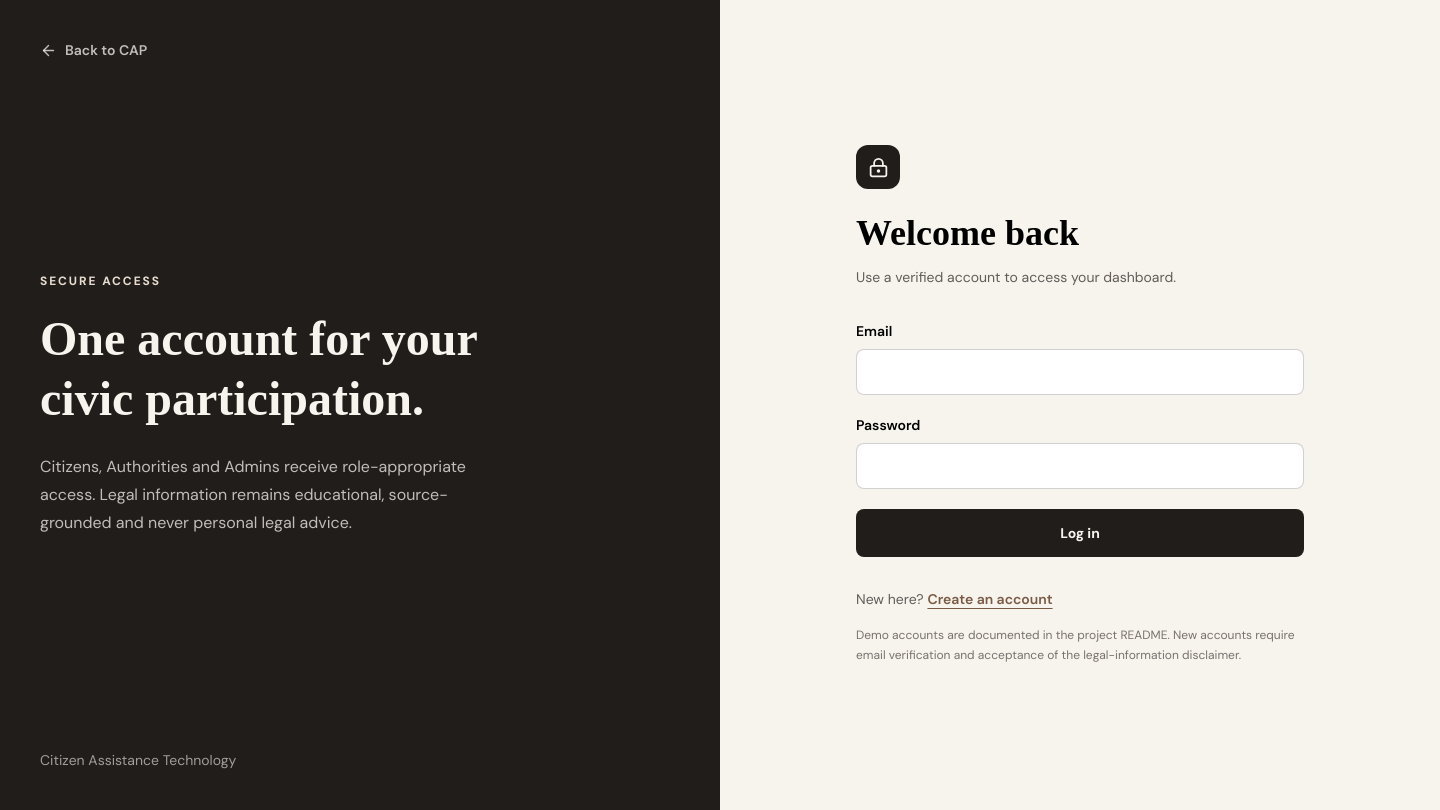
Test: LoginPage › offers a route out of the unverified-account deadlock
Type "asha@example.com" into the field labelled "Email".
click(1080, 372); type("asha@example.com")  # box [856, 349, 1304, 395]
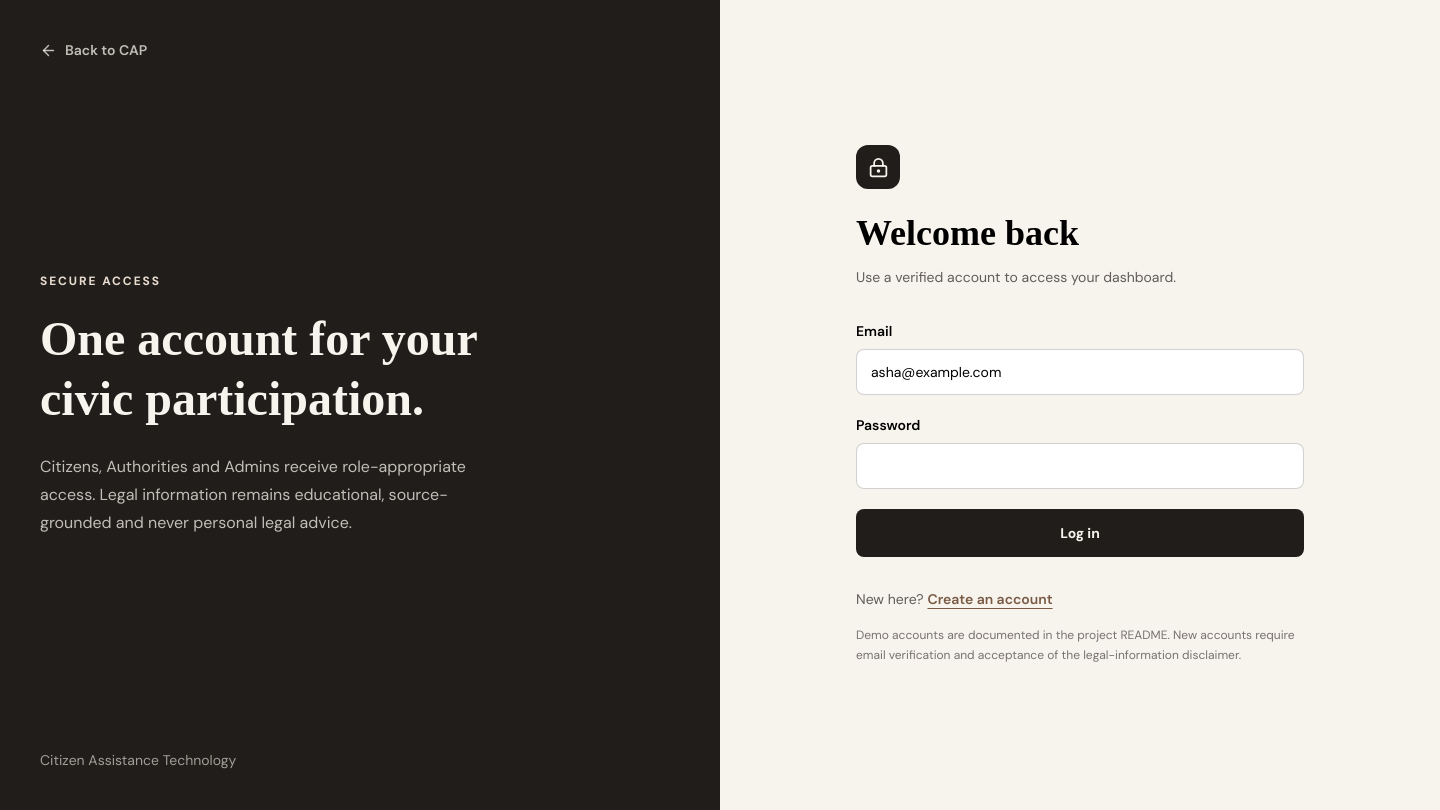
Type "CorrectHorse!2026" into the password field labelled "Password".
click(1080, 466); type("CorrectHorse!2026")  # box [856, 443, 1304, 489]
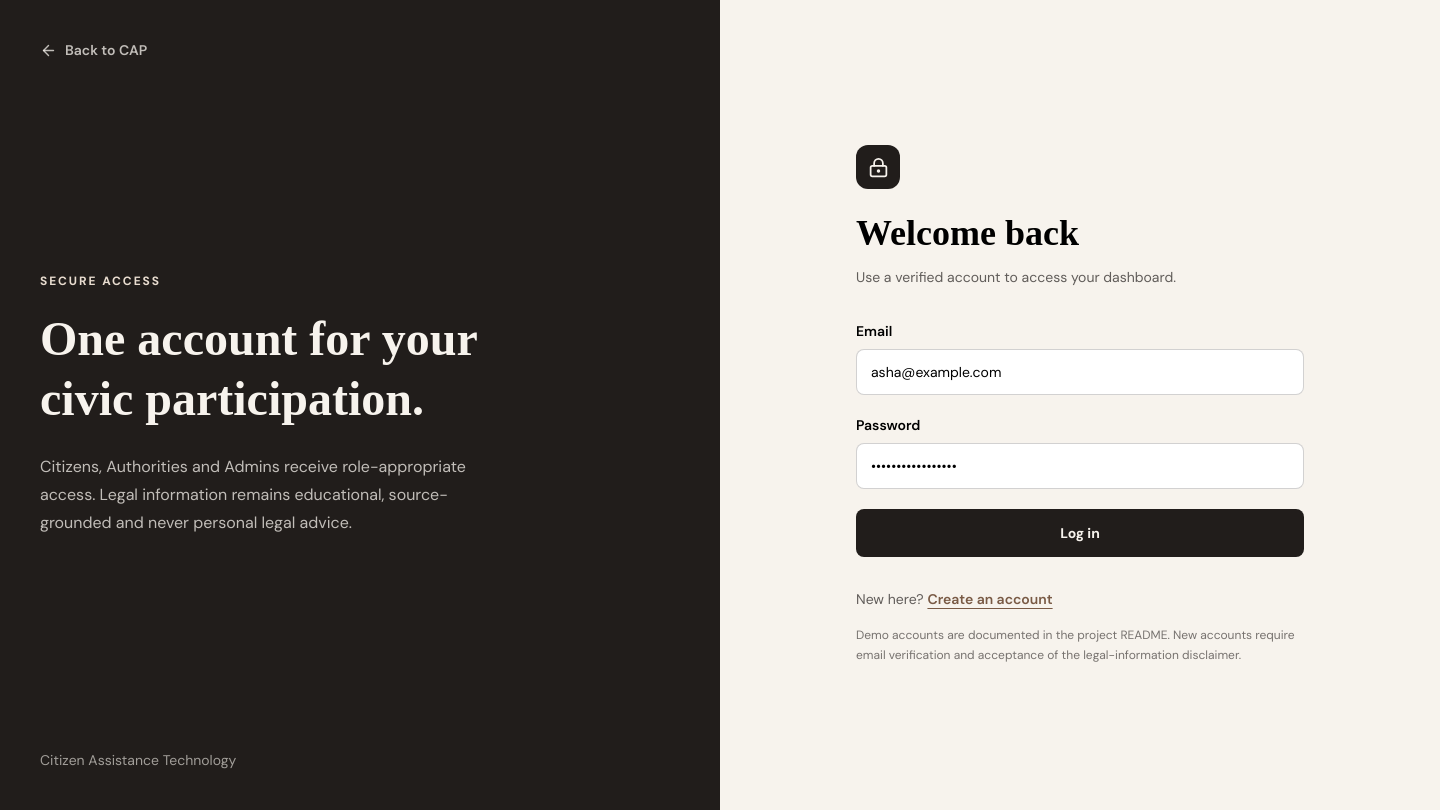
Click the button "Log in".
click(1080, 533)  # box [856, 509, 1304, 557]
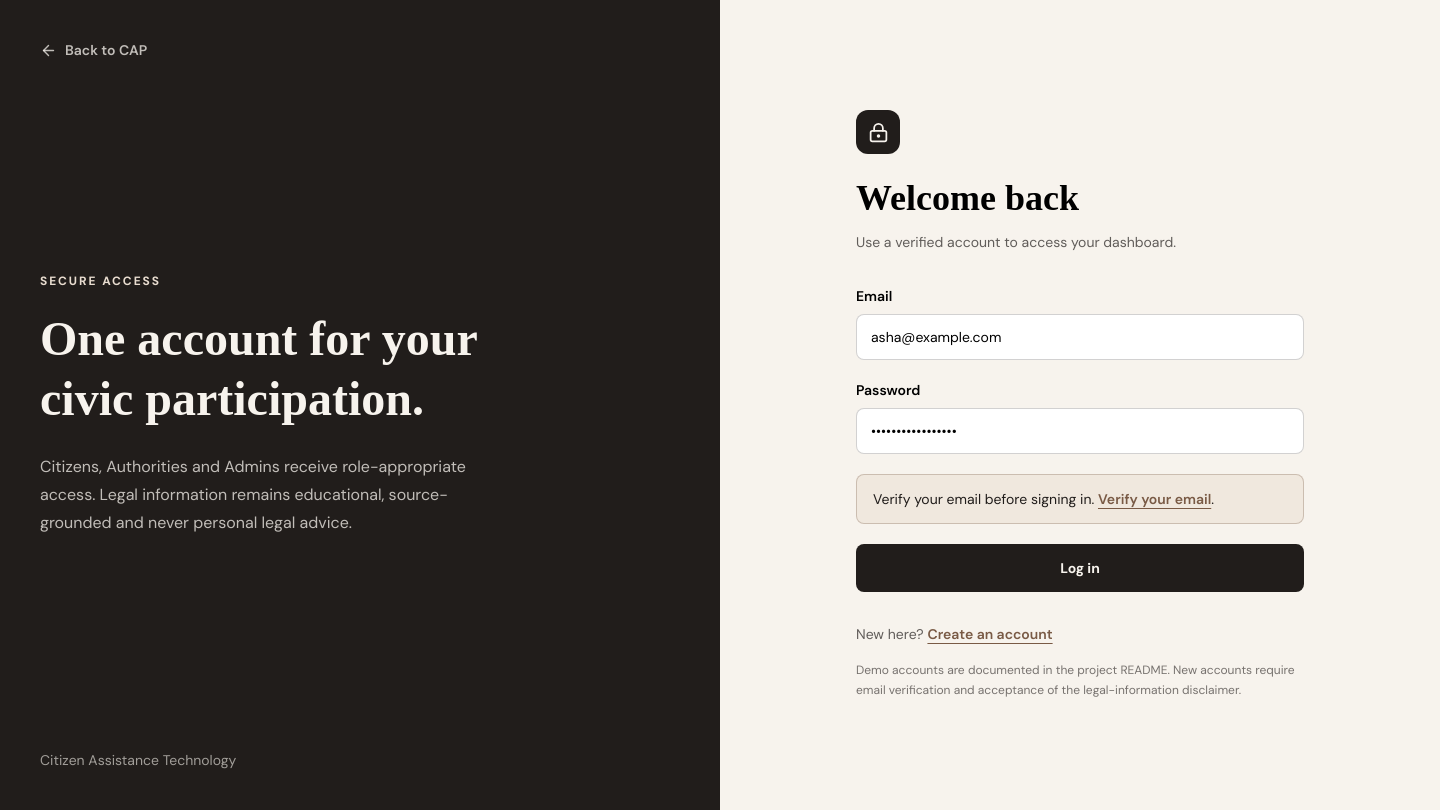
expect the message "Verify your email before signing in. Verify your email ." is shown: met, box [856, 474, 1304, 524]
expect the link "Verify your email" is shown: met, box [1098, 490, 1211, 508]
